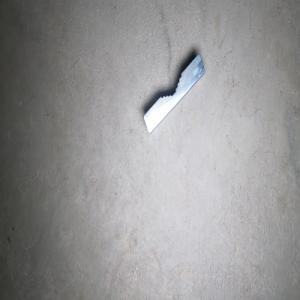ClampPart: (142, 51, 206, 134)
